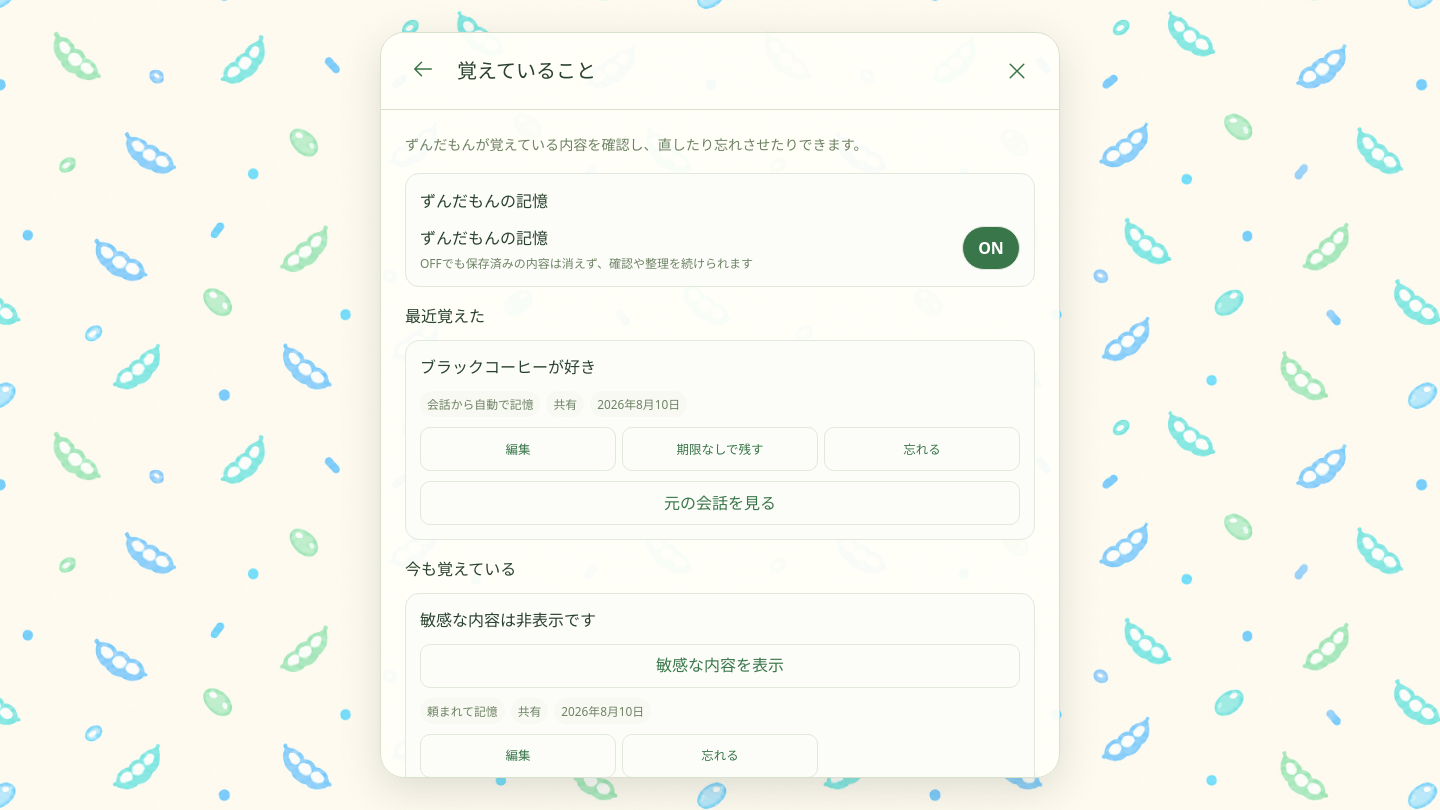
Test case: saved memories › groups statuses, hides sensitive content, and shows source metadata naturally
The image size is (1440, 810).
expect the heading "最近覚えた" is shown: met, box [405,305,485,327]
expect the heading "今も覚えている" is shown: met, box [405,558,516,580]
Click the button "敏感な内容を表示": (720, 666) [420,644,1020,688]
(page scrolled)
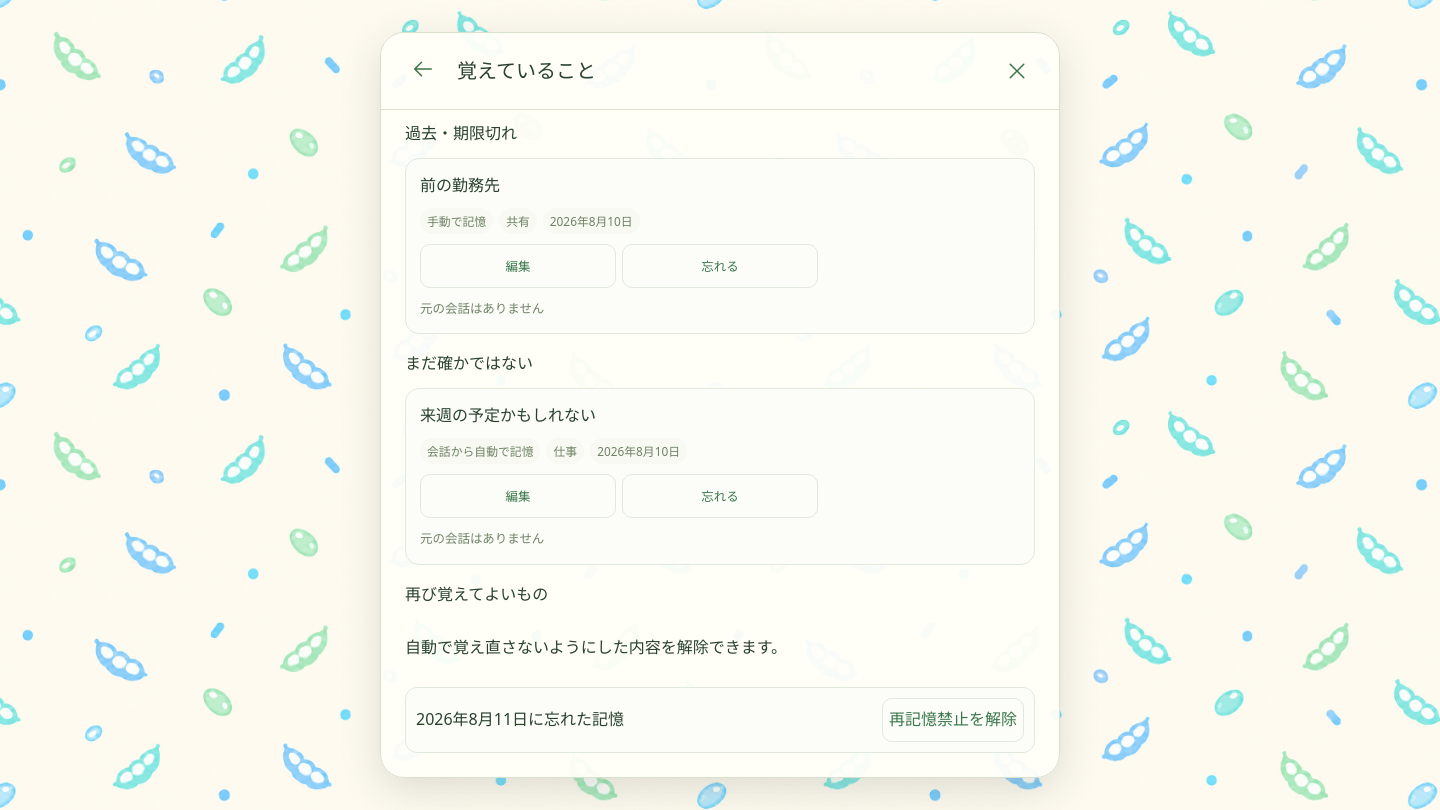
expect the heading "再び覚えてよいもの" is shown: met, box [405,583,548,605]
